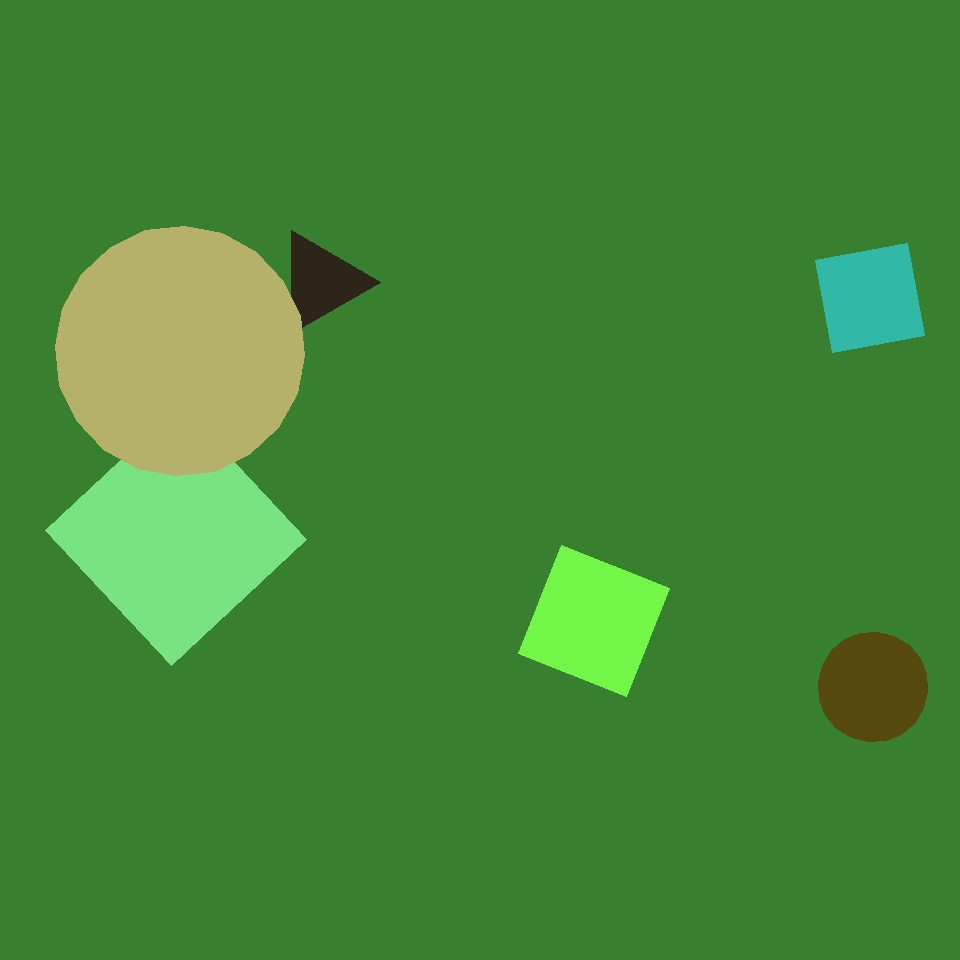circle: (533, 571, 750, 777), (276, 230, 366, 334)
square: (46, 404, 306, 665), (243, 49, 421, 228), (518, 546, 670, 696), (816, 244, 924, 352)
triangle: (55, 226, 304, 476), (818, 632, 928, 742)
